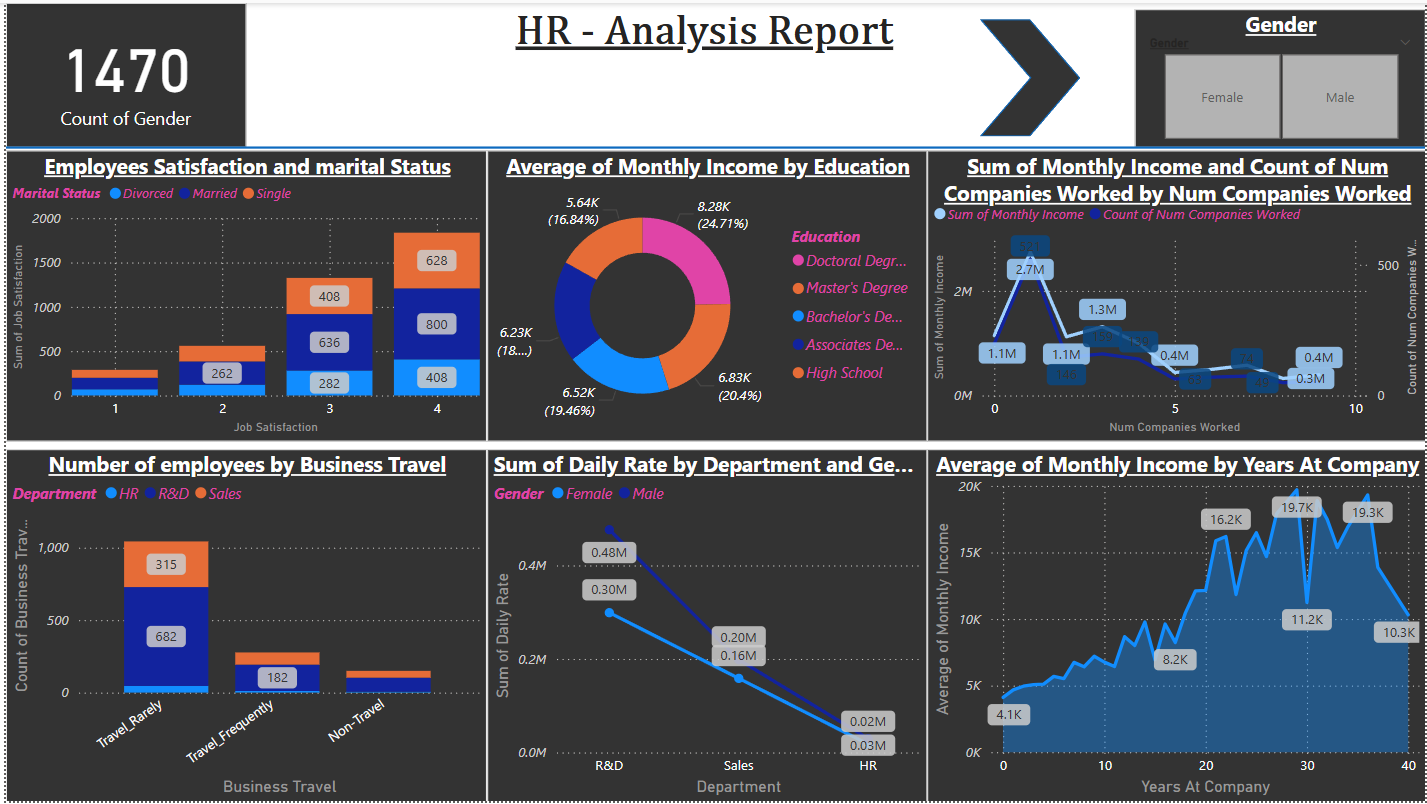

Layout of this report page (visuals, bound fields, positions):
{"tool":"powerbi","page":{"name":"MainBoard","canvas":[1280,720],"ordinal":0},"visuals":[{"type":"textbox","box":[441.9,0,382.8,56.3],"z":0},{"type":"columnChart","title":"Number of employees by Business Travel","fields":{"Category":["Sheet1.Business Travel"],"Y":["CountNonNull(Sheet1.Business Travel)"],"Series":["Sheet1.Department"]},"box":[0,402.1,433.6,318.4],"z":2000},{"type":"lineChart","fields":{"Category":["Sheet1.Department"],"Y":["Sum(Sheet1.Daily Rate)"],"Series":["Sheet1.Gender"]},"box":[433.6,402.1,396.6,318.4],"z":3000},{"type":"donutChart","fields":{"Category":["Sheet1.Education"],"Y":["Avg(Sheet1.Monthly Income)"]},"box":[433.6,133.1,396.6,262.1],"z":4000},{"type":"card","title":"Total Employees","fields":{"Values":["CountNonNull(Sheet1.Gender)"]},"box":[0,0,216.8,130.4],"z":6000},{"type":"slicer","title":"Gender","fields":{"Values":["Sheet1.Gender"]},"box":[1018.2,5.5,262.1,124.9],"z":7000},{"type":"columnChart","title":"Employees Satisfaction and marital Status","fields":{"Y":["Sum(Sheet1.Job Satisfaction)"],"Category":["Sheet1.Job Satisfaction"],"Series":["Sheet1.Marital Status"]},"box":[0,133.1,433.6,262.1],"z":8000},{"type":"areaChart","fields":{"Category":["Sheet1.Years At Company"],"Y":["Avg(Sheet1.Monthly Income)"]},"box":[830.2,402.1,450.1,318.4],"z":9000},{"type":"lineChart","fields":{"Y":["Sum(Sheet1.Monthly Income)"],"Category":["Sheet1.Num Companies Worked"],"Y2":["CountNonNull(Sheet1.Num Companies Worked)"]},"box":[830.2,133.1,450.1,262.1],"z":10000},{"type":"shape","box":[0,126.2,1280.3,8.2],"z":13000},{"type":"shape","box":[878.2,15.1,90.6,105.7],"z":13001}]}

Visuals, with their boxes in screenshot pixels (x1, y1, x2, y2), scaled from the page's 1280x720 canvas onto the 1427x804 screenshot:
textbox: (x1=493, y1=0, x2=919, y2=63)
"Number of employees by Business Travel" columnChart: (x1=0, y1=449, x2=483, y2=803)
lineChart - Sheet1.Department x Sum(Sheet1.Daily Rate): (x1=483, y1=449, x2=926, y2=803)
donutChart - Sheet1.Education x Avg(Sheet1.Monthly Income): (x1=483, y1=149, x2=926, y2=441)
"Total Employees" card: (x1=0, y1=0, x2=242, y2=146)
"Gender" slicer: (x1=1135, y1=6, x2=1426, y2=146)
"Employees Satisfaction and marital Status" columnChart: (x1=0, y1=149, x2=483, y2=441)
areaChart - Sheet1.Years At Company x Avg(Sheet1.Monthly Income): (x1=926, y1=449, x2=1426, y2=803)
lineChart - Sum(Sheet1.Monthly Income) x Sheet1.Num Companies Worked: (x1=926, y1=149, x2=1426, y2=441)
shape: (x1=0, y1=141, x2=1426, y2=150)
shape: (x1=979, y1=17, x2=1080, y2=135)
